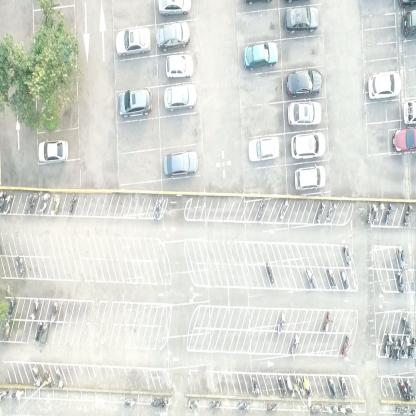car: (118, 84, 152, 118), (285, 69, 323, 98), (155, 19, 189, 51), (242, 41, 278, 71), (116, 26, 150, 57), (163, 83, 198, 113), (290, 131, 326, 160), (163, 149, 200, 177), (368, 70, 402, 100), (284, 7, 320, 35), (286, 102, 323, 127), (37, 137, 68, 166), (293, 165, 326, 192), (248, 136, 280, 162), (165, 54, 193, 80), (393, 127, 415, 154), (158, 0, 190, 17), (402, 97, 416, 127), (402, 8, 416, 38)
